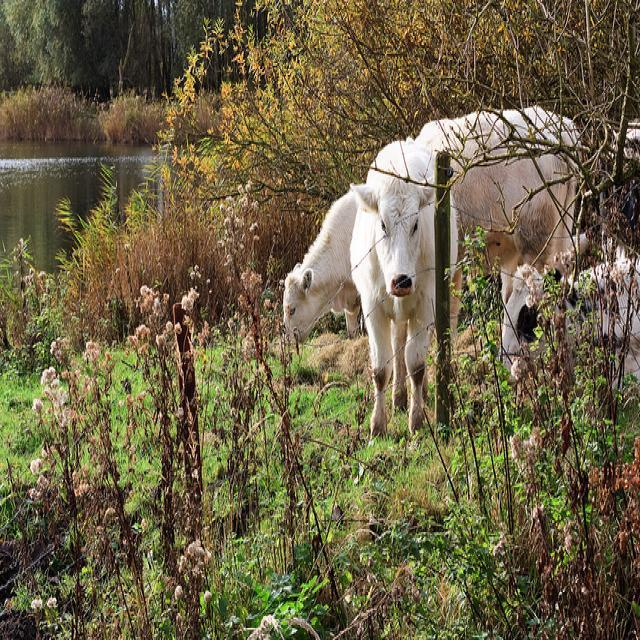cow: (416, 102, 599, 340), (352, 129, 459, 433), (499, 252, 639, 384), (277, 186, 362, 336)
